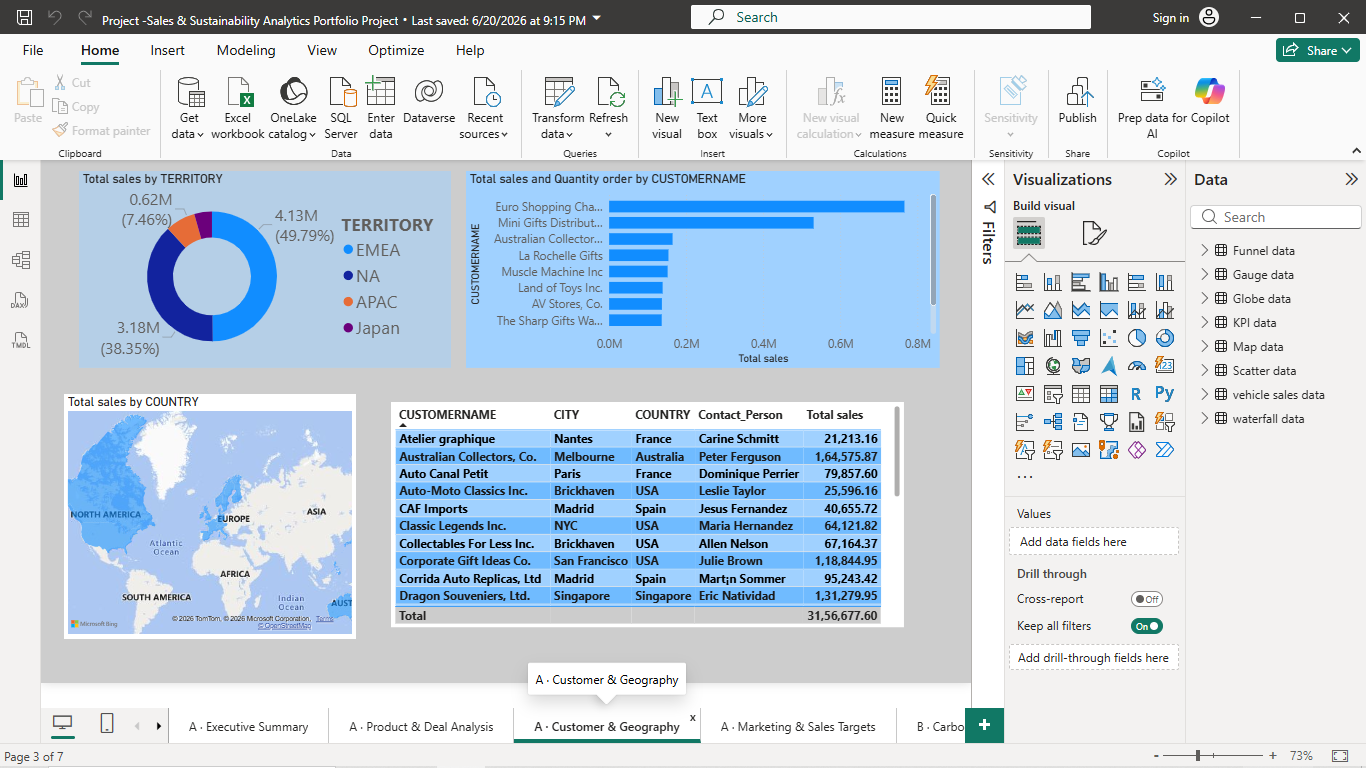

The dashboard page shown, as its layout file describes it:
{"tool":"powerbi","page":{"name":"PROJECT-A  - Customer & Geography","canvas":[1280,720],"ordinal":2},"visuals":[{"type":"donutChart","fields":{"Category":["vehicle sales data.TERRITORY"],"Y":["vehicle sales data.Total sales"]},"box":[52.3,15.1,512,271.1],"z":0},{"type":"filledMap","fields":{"Category":["vehicle sales data.COUNTRY"]},"box":[31.4,321.4,401.4,335.7],"z":1000},{"type":"barChart","fields":{"Category":["vehicle sales data.CUSTOMERNAME"],"Y":["vehicle sales data.Total sales"]},"box":[584.9,15.1,652.4,271.1],"z":2000},{"type":"tableEx","fields":{"Values":["vehicle sales data.CUSTOMERNAME","vehicle sales data.CITY","vehicle sales data.COUNTRY","vehicle sales data.Contact_Person","vehicle sales data.Total sales"]},"box":[481.7,333.1,706.1,309.7],"z":3000}]}

Visuals, with their boxes on the page's 1280x720 design canvas (x1, y1, x2, y2). These are canvas units, not pixel positions in the 1366x768 screenshot, which may show the page scaled, cropped or inside an application window:
donutChart - vehicle sales data.TERRITORY x vehicle sales data.Total sales: bbox=(52, 15, 564, 286)
filledMap - vehicle sales data.COUNTRY: bbox=(31, 321, 433, 657)
barChart - vehicle sales data.CUSTOMERNAME x vehicle sales data.Total sales: bbox=(585, 15, 1237, 286)
tableEx - vehicle sales data.CUSTOMERNAME x vehicle sales data.CITY: bbox=(482, 333, 1188, 643)
